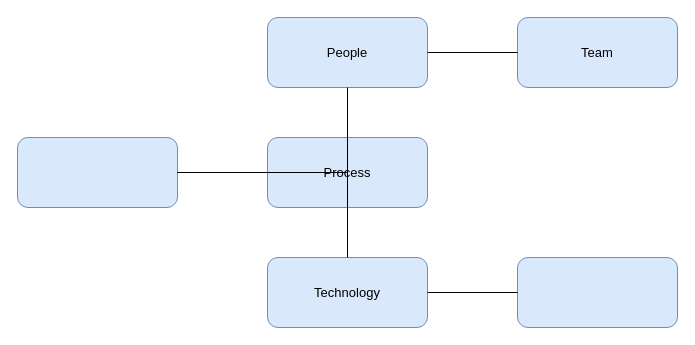
Some shapes in this 695 by 345 pixel diagram are drawn without their labels. The box of each missing label's shape, as (x1, y1, x2, y2) in pixels:
Project: (16, 136, 178, 208)
Tools: (516, 256, 678, 328)
